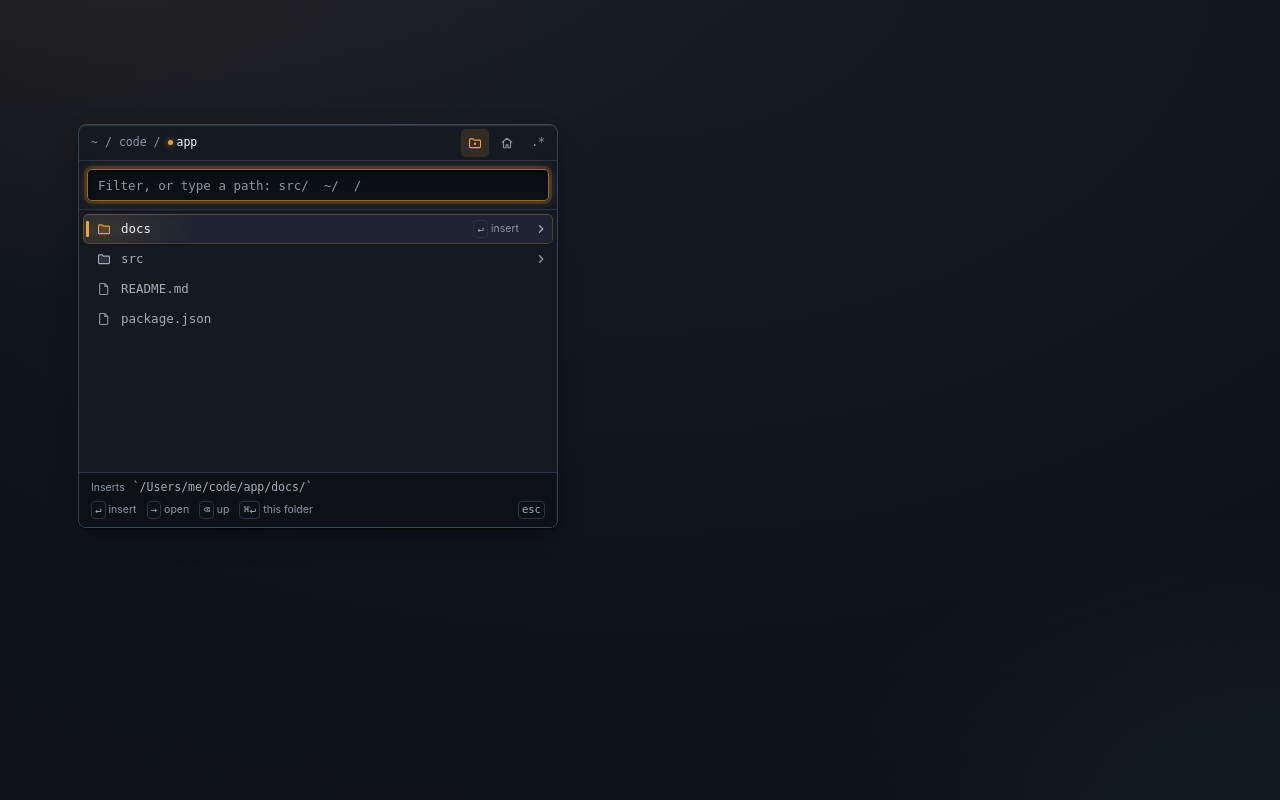
Test: PathPicker › reads a typed slash as a folder to list and the rest as a filter
The image size is (1280, 800).
Type "src/ma" into the dropdown with test id "path-picker-filter" at (318, 185), box [87, 169, 549, 201]
Wait 200 ms
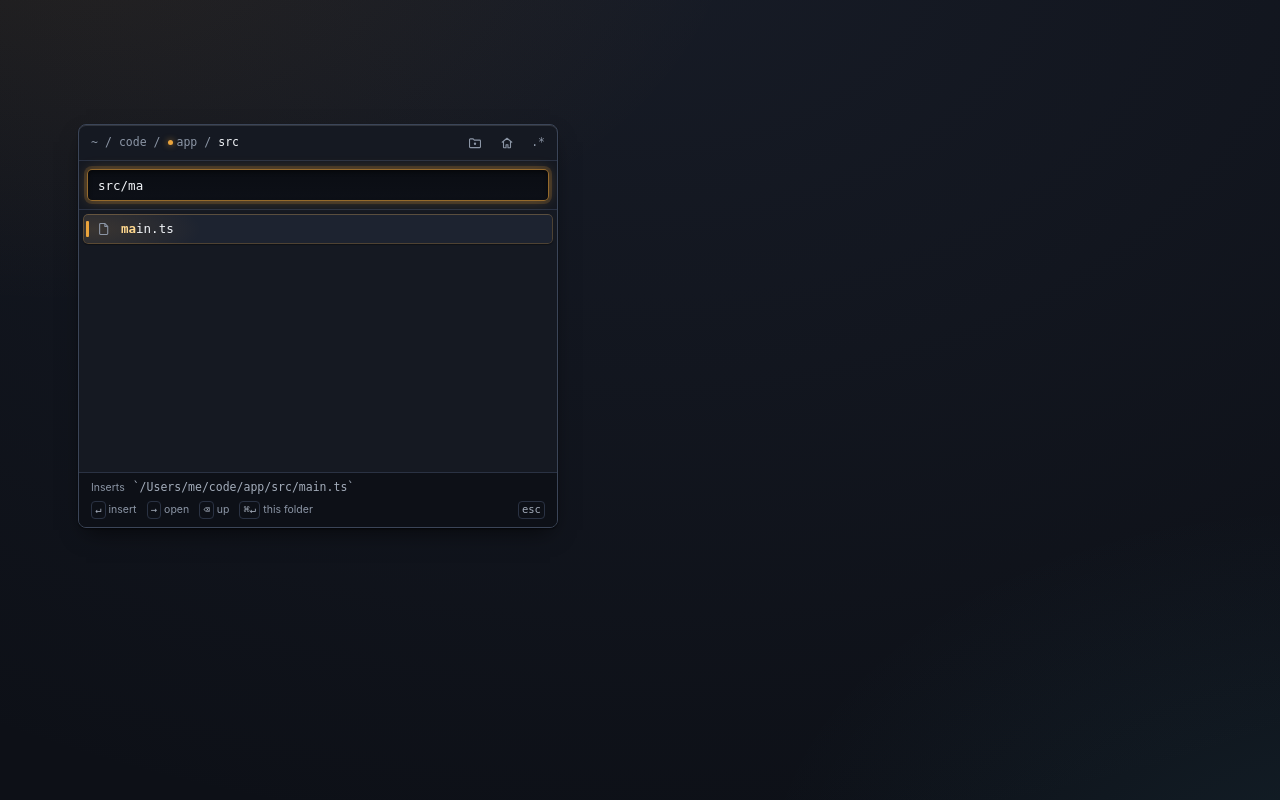
Result: the text "ma" is shown at [121, 221, 136, 236]
